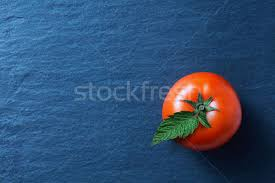tomato: (161, 72, 241, 149)
